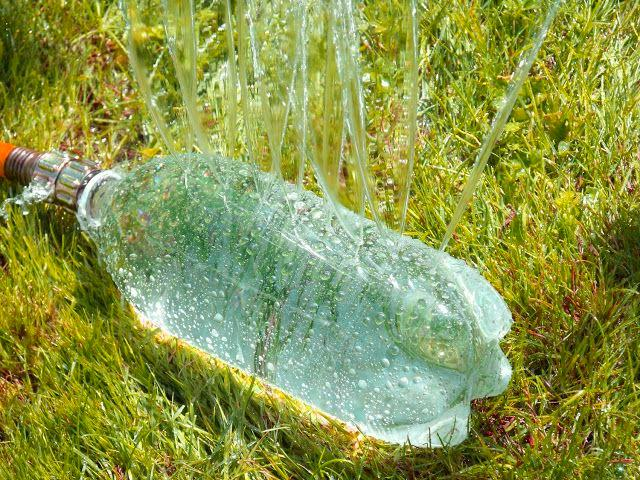Plastic: (82, 150, 511, 446)
